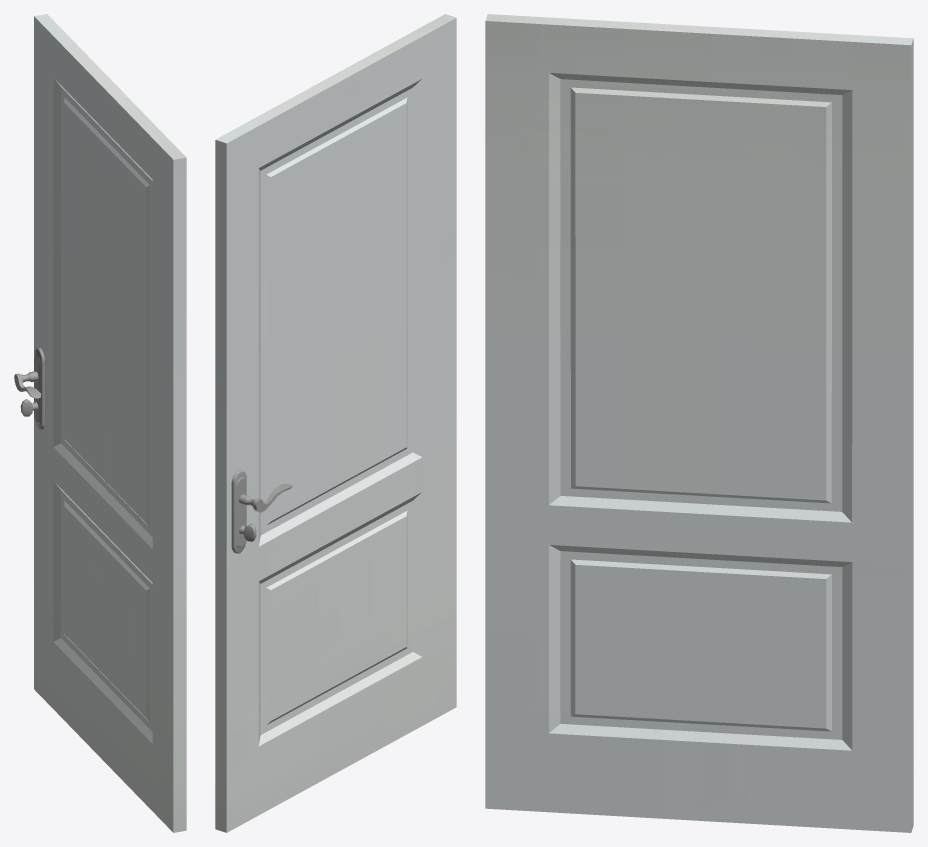
Rendered from men06.fbx.
The picture shows the model from 3 angles, left to right: view 1: azimuth 30°, elevation 25°; view 2: azimuth 150°, elevation 25°; view 3: azimuth 270°, elevation 25°; orthographic projection. The views are drawn at different scales.
Visible parts, largest first — view 1: men06; view 2: men06; view 3: men06.
Part boxes in pixels (bbox=[...]): men06: bbox=[14, 14, 186, 832]; men06: bbox=[215, 14, 456, 832]; men06: bbox=[485, 14, 913, 832].
Size of the model in its own units: 17.84 by 210 by 103.
